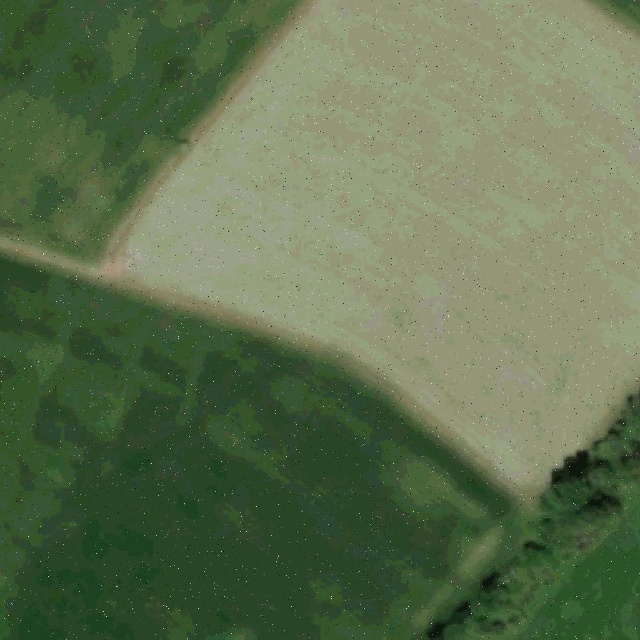vegetation: (429, 395, 640, 636)
